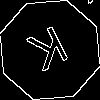K: (25, 25, 76, 81)
